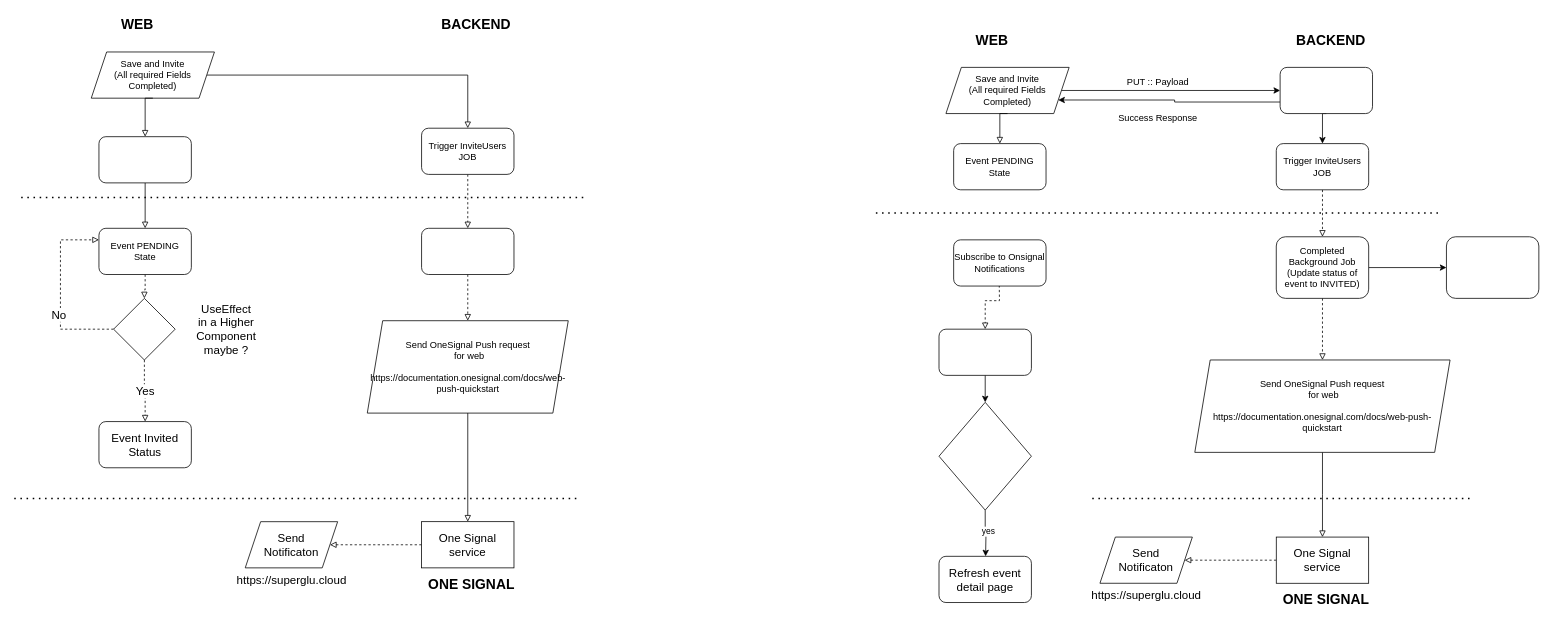
Some shapes in this 1552 by 621 pixel diagram are drawn without their labels. Each missing label, with the box of its shape:
Completed Background Job: (421, 228, 514, 275)
Event DRAFT State: (98, 136, 191, 183)
IF Type = EVENT_INVITE: (938, 402, 1031, 510)
InviteUsers Lambda: (1279, 67, 1373, 114)
Recieved Notification: (113, 298, 175, 360)
Save Notification in DB Notification table: (1446, 236, 1539, 298)
When notification recieved: (938, 328, 1031, 375)
